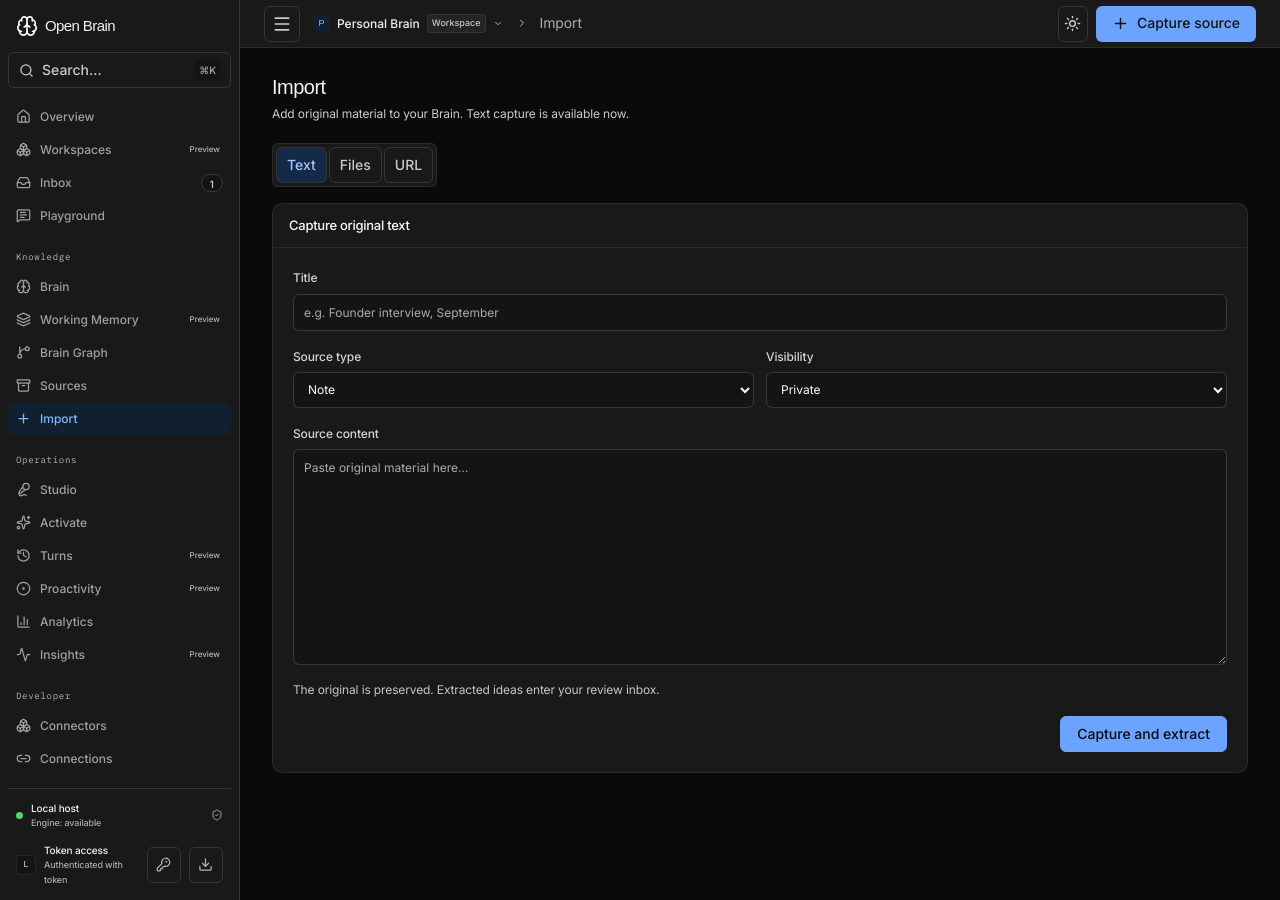
Test: App › retains failed import content and retries a single capture
Type "Sample interview" into the field labelled "Title" at point(760, 312), box [293, 294, 1227, 331]
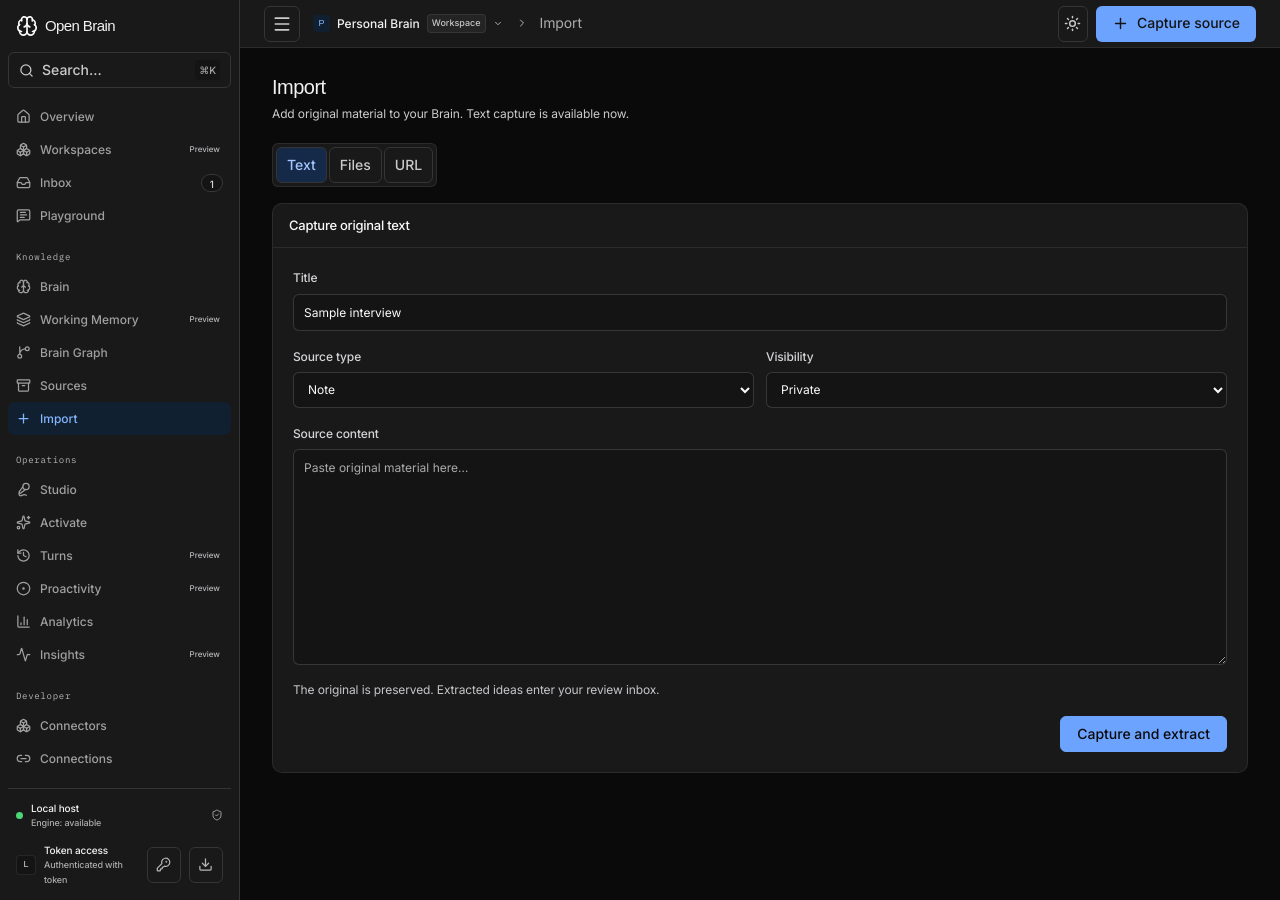
Type "Retain the complete original interview and review its claims." into the text box labelled "Source content" at point(760, 557), box [293, 449, 1227, 665]
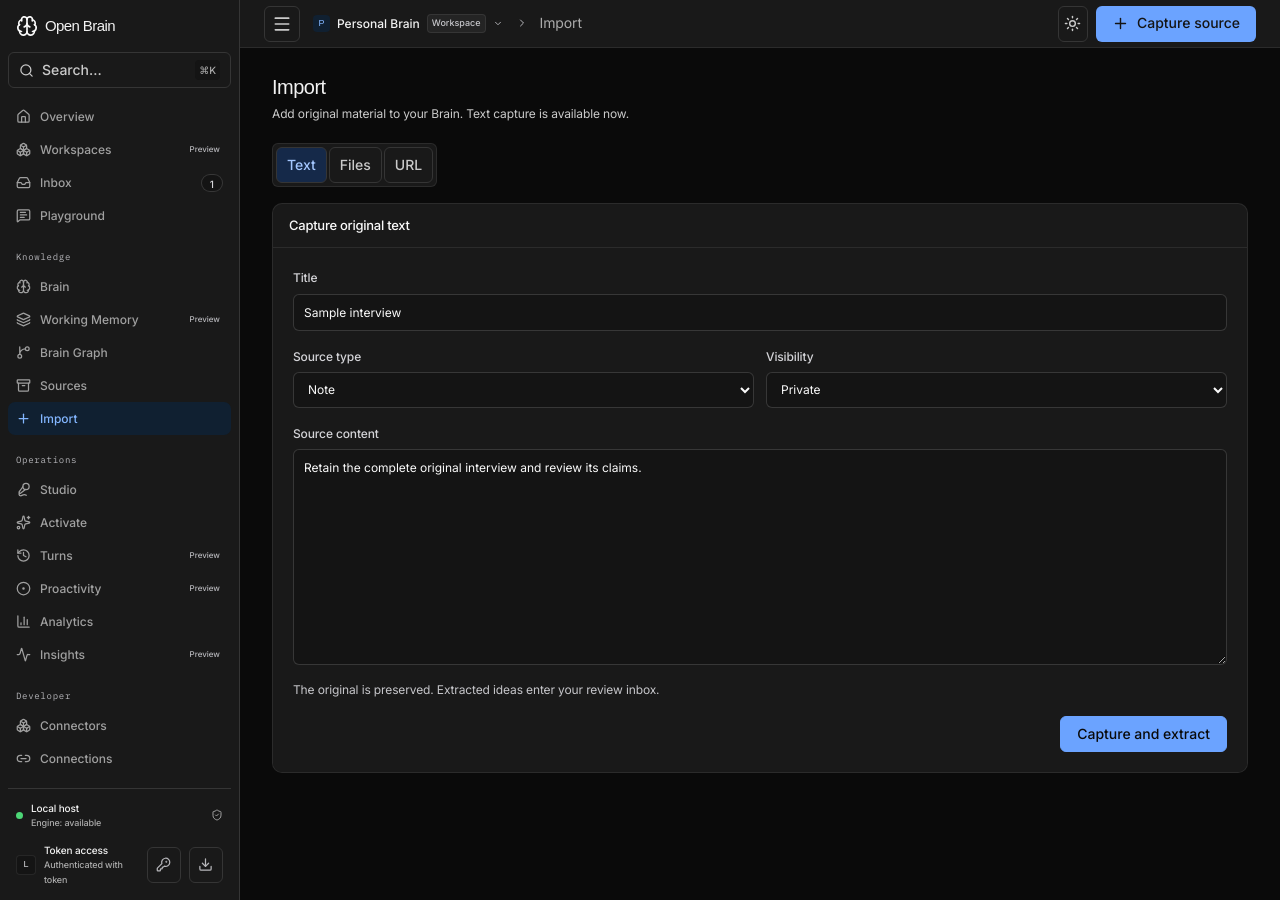
Click the button "Capture and extract" at point(1144, 734), box [1060, 716, 1227, 752]
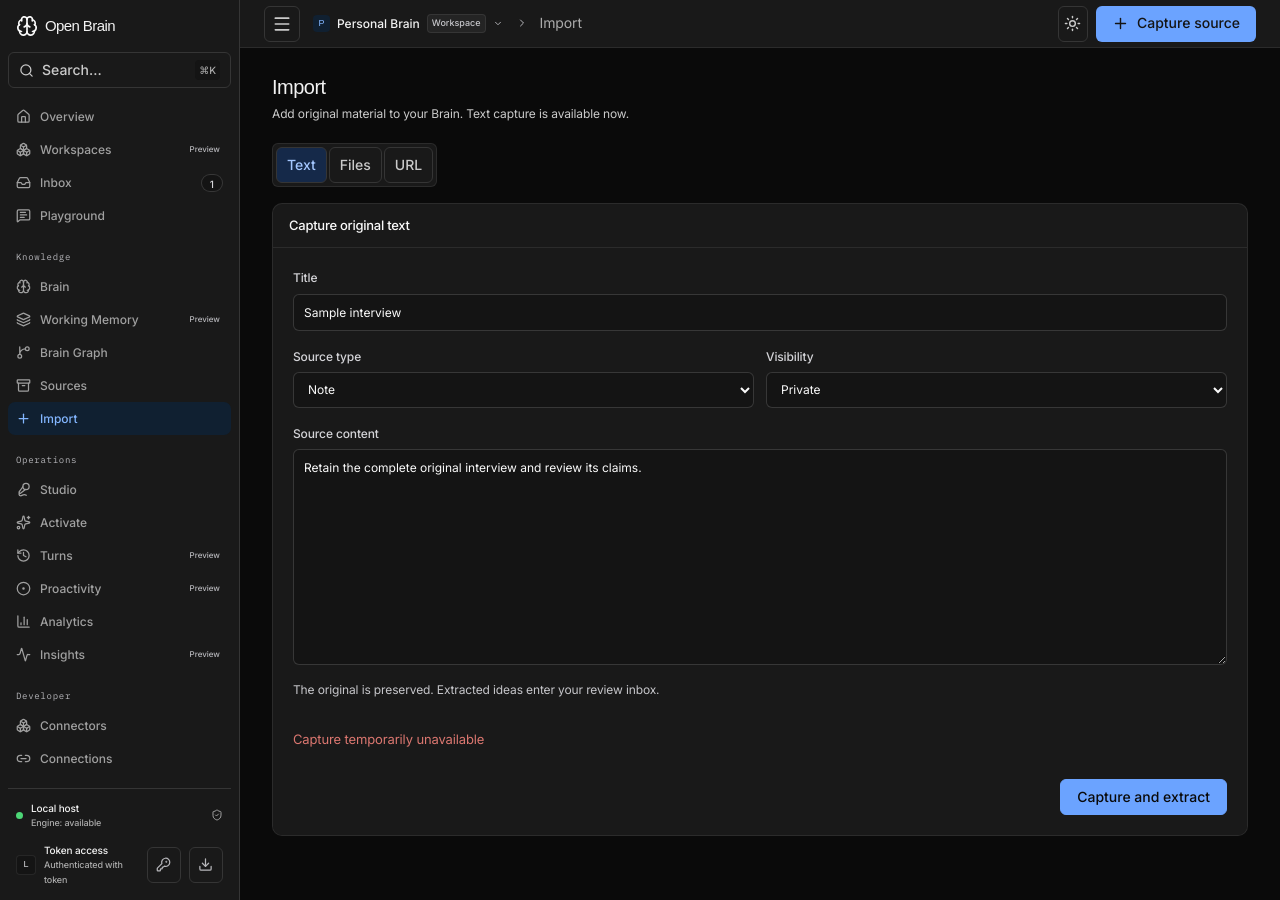
Result: the message reads "Capture temporarily unavailable" at [293, 731, 484, 747]
Click the button "Capture and extract" at point(1144, 796), box [1060, 778, 1227, 814]
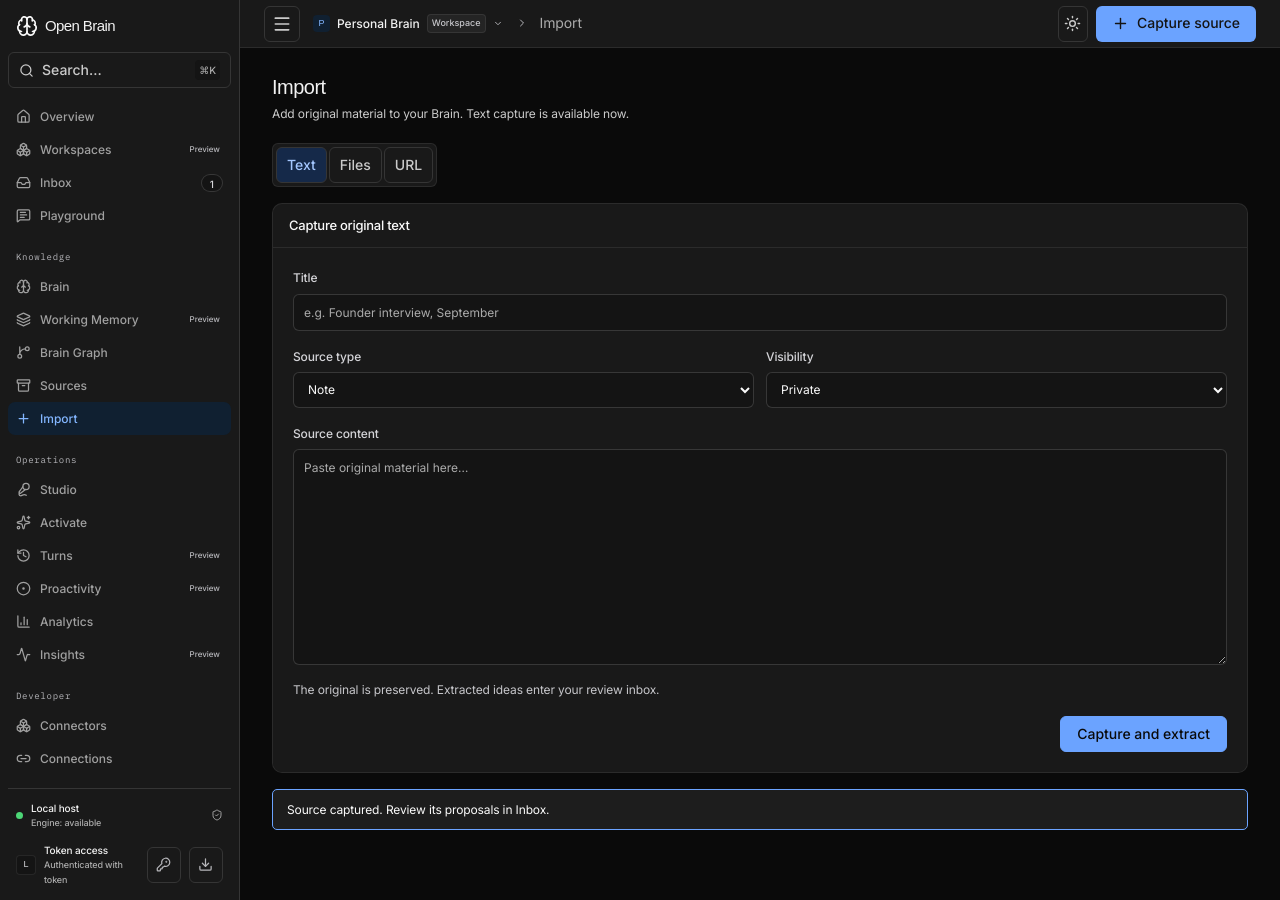
Result: the text "Source captured. Review its proposals in Inbox." is shown at [272, 789, 1248, 830]
Result: the text box labelled "Source content" is empty at [293, 449, 1227, 665]
